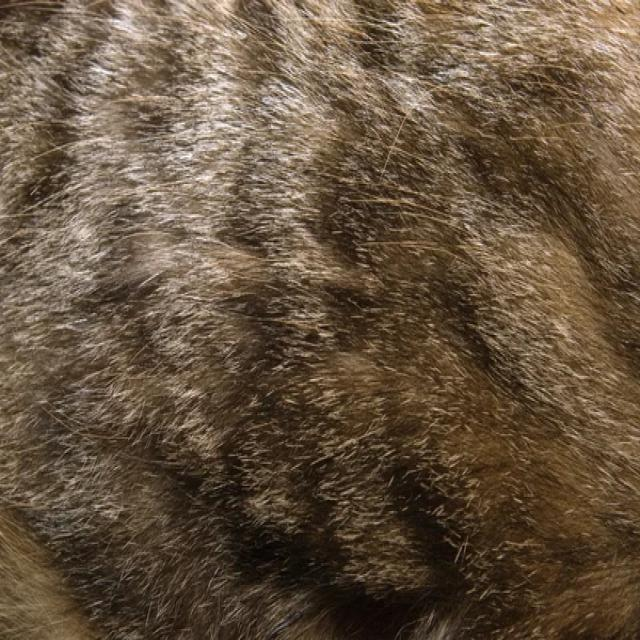Healthy skin: (291, 390, 640, 623), (20, 344, 231, 619), (256, 62, 431, 356), (452, 42, 618, 348), (6, 8, 187, 274)
